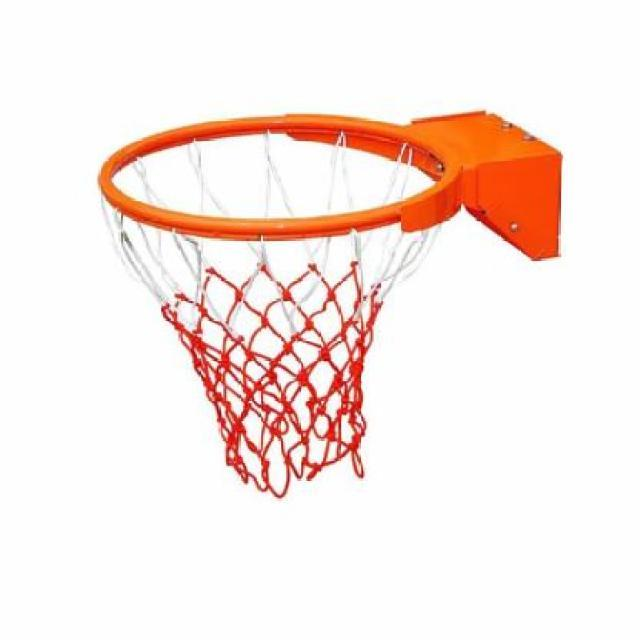rim: (99, 111, 464, 496)
